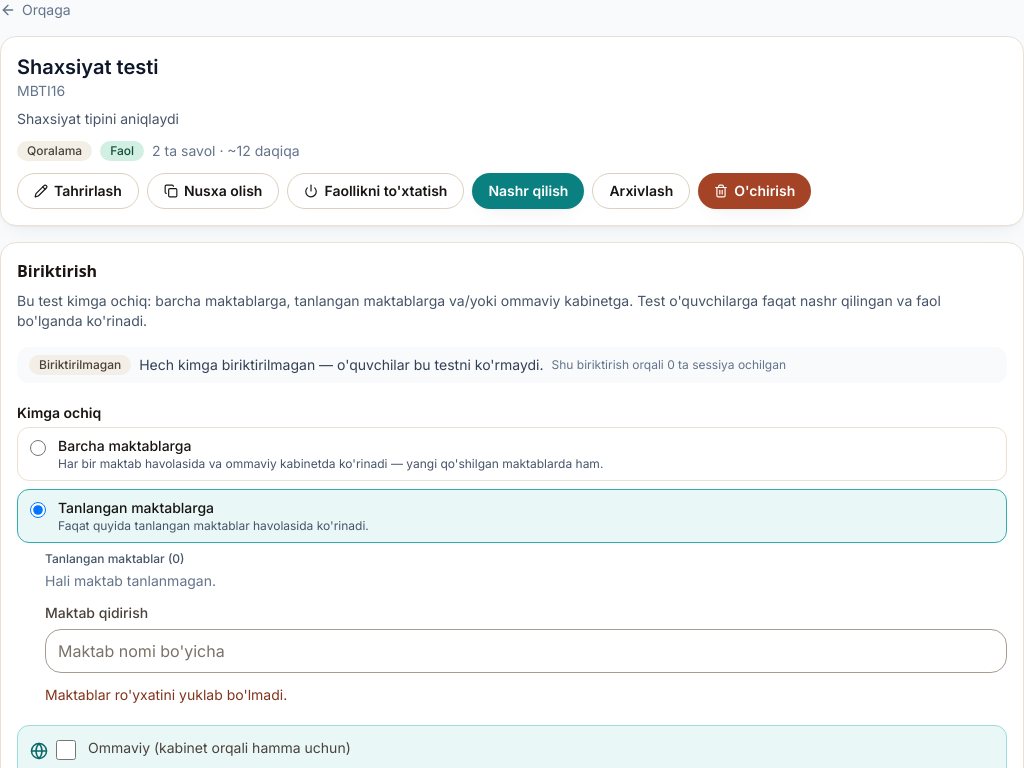
Test: CatalogTestDetailPage — `Custom` test › nashr rad etilsa `issues[]` bandma-band ko'rsatiladi
Expected: the heading "Shaxsiyat testi" is shown, [17,53,158,81]
Click the button "Nashr qilish" at [528, 191], box [472,173,584,209]
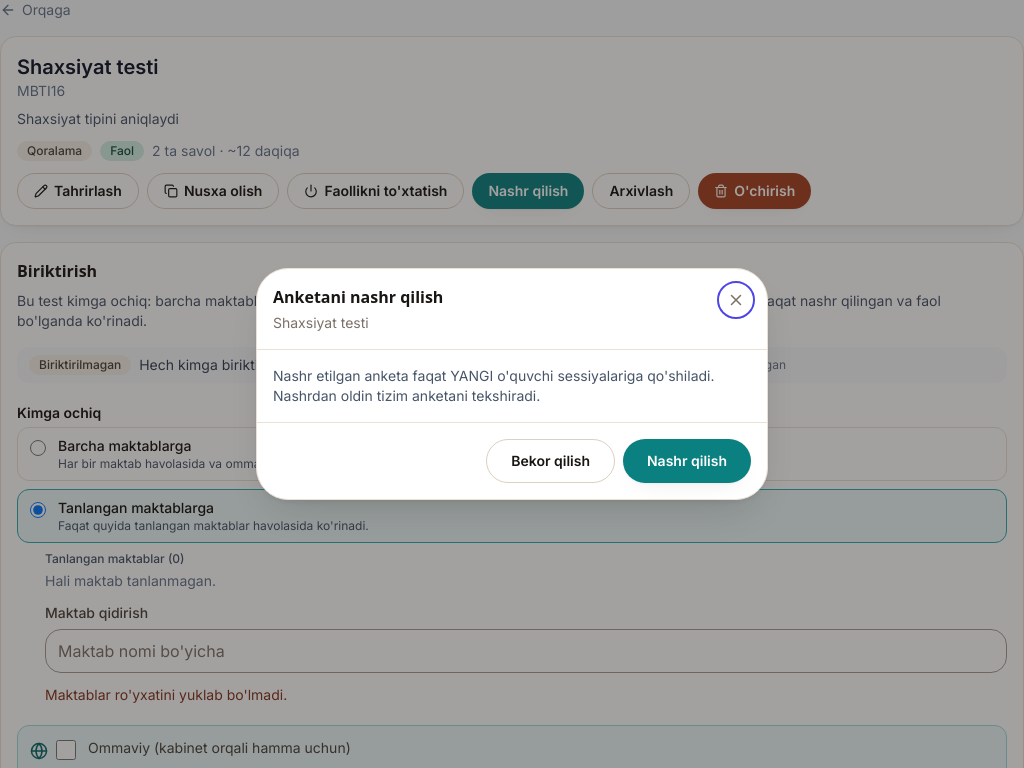
Click the button "Nashr qilish" at [687, 461], box [623,439,751,483]
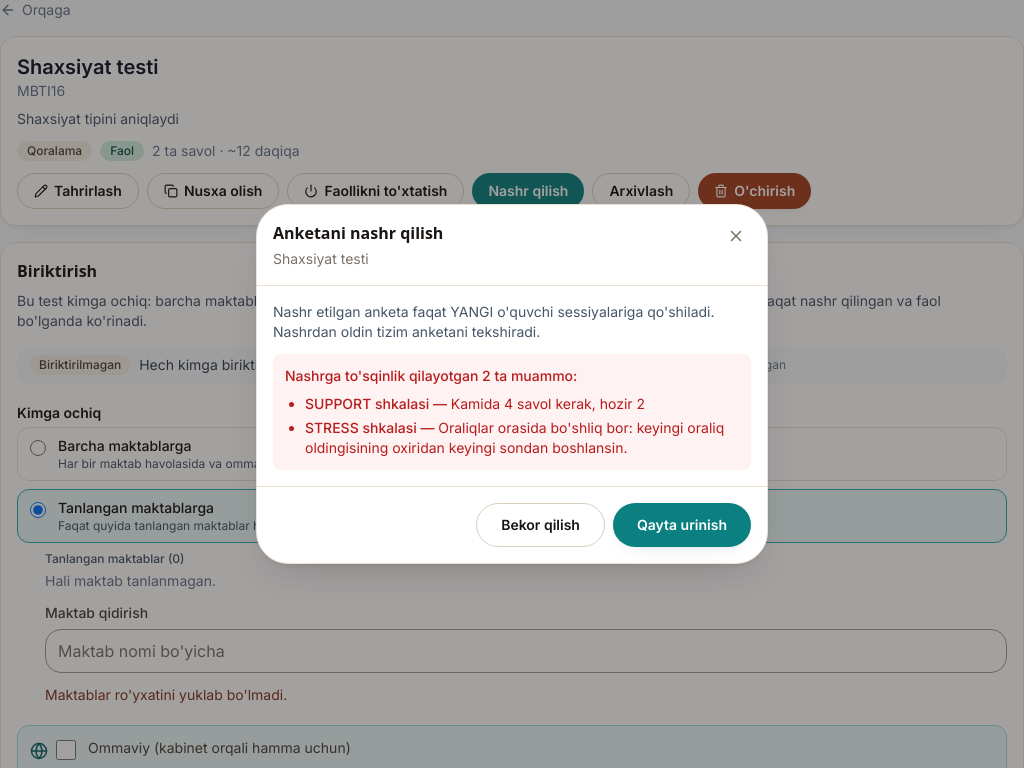
Expected: the list item "SUPPORT shkalasi — Kamida 4 savol kerak, hozir 2" is shown, [305,395,645,412]
Expected: the text "SUPPORT shkalasi —" is shown, [305,395,451,412]
Expected: the list item "Oraliqlar orasida bo'shliq bor" is shown, [305,419,724,456]
